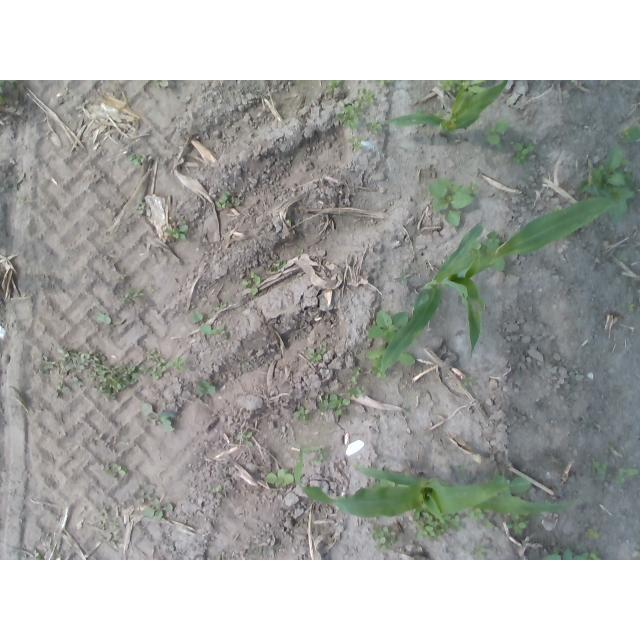Maize: (381, 198, 616, 384), (295, 441, 590, 528), (384, 81, 511, 140)
Weeds: (578, 144, 633, 224), (427, 174, 479, 227), (92, 363, 146, 402), (367, 345, 416, 380), (414, 509, 463, 540), (366, 309, 410, 343), (488, 471, 532, 500), (138, 488, 175, 520), (57, 348, 104, 373), (139, 402, 173, 432), (540, 545, 604, 560), (335, 100, 365, 132), (96, 508, 120, 545), (318, 393, 351, 419), (483, 119, 510, 150), (438, 80, 485, 97), (468, 230, 501, 254), (372, 524, 398, 553), (467, 507, 497, 532), (145, 348, 167, 379), (265, 467, 295, 489), (513, 139, 536, 165), (241, 271, 263, 297), (214, 190, 242, 210), (189, 310, 212, 334), (505, 513, 529, 536), (618, 123, 640, 145), (304, 445, 329, 464), (613, 465, 639, 482), (163, 224, 189, 241), (120, 287, 145, 304), (35, 354, 55, 374), (470, 541, 491, 560), (105, 464, 128, 481), (196, 377, 217, 395), (356, 88, 376, 105), (293, 406, 311, 423), (307, 346, 326, 362), (234, 431, 254, 446), (591, 459, 609, 475), (167, 357, 186, 372), (127, 153, 145, 168), (53, 384, 71, 399), (93, 311, 112, 325), (347, 135, 365, 149), (347, 386, 366, 399), (348, 366, 360, 386), (585, 527, 602, 541), (366, 120, 382, 134), (490, 258, 507, 271), (214, 298, 230, 311), (614, 248, 628, 262), (454, 463, 467, 478), (212, 324, 227, 336), (270, 261, 287, 271), (416, 108, 425, 126), (72, 376, 84, 389), (0, 80, 6, 105), (135, 200, 145, 214), (32, 549, 44, 560), (151, 81, 169, 88), (395, 273, 407, 283), (436, 108, 448, 118), (463, 377, 473, 388), (626, 302, 636, 312), (606, 444, 617, 453), (376, 80, 392, 86), (328, 81, 341, 88), (211, 485, 222, 492), (216, 556, 222, 560)
